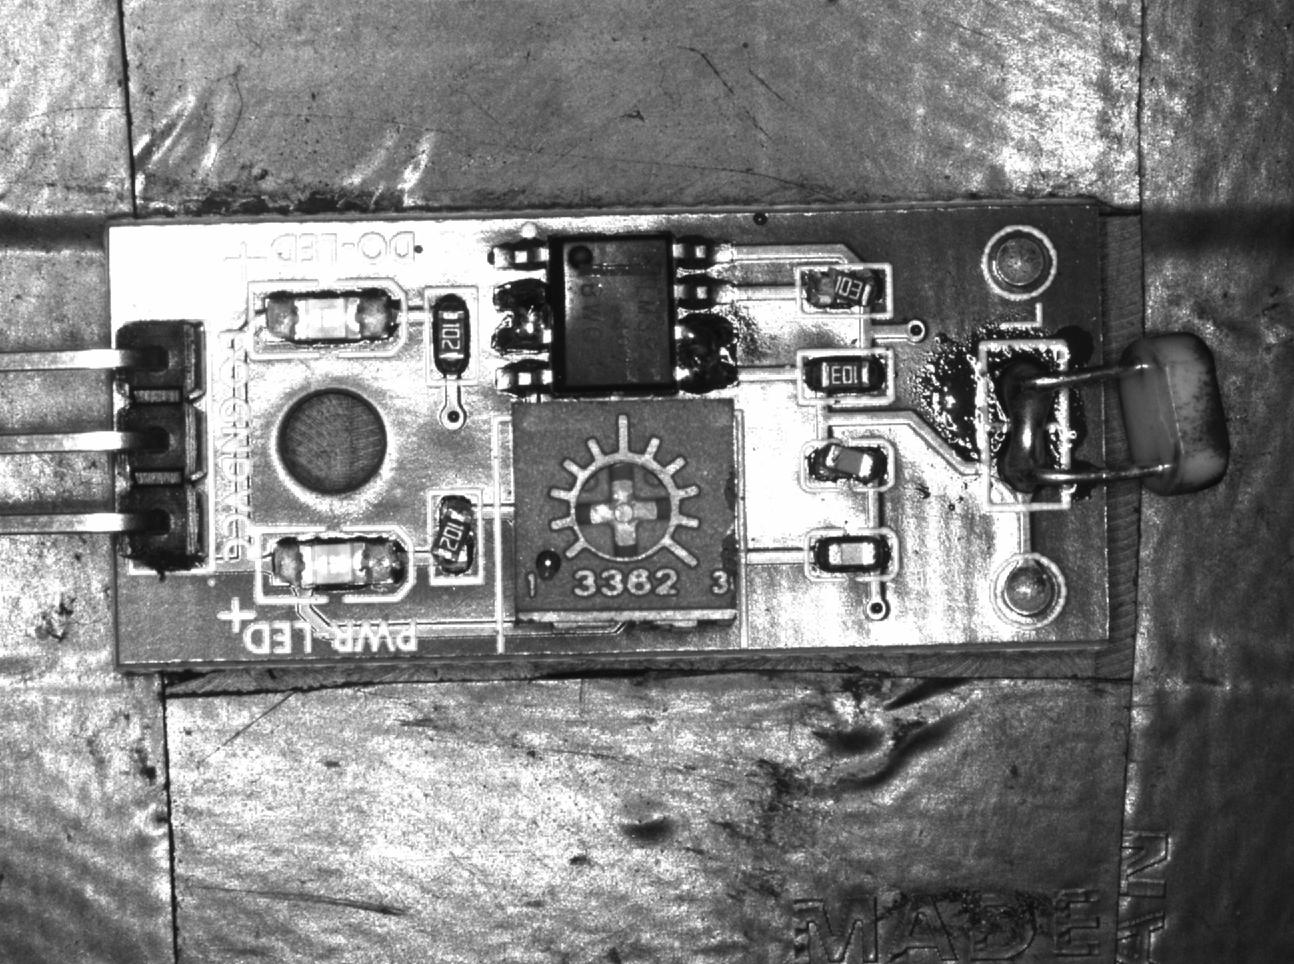bridge: (980, 343, 1065, 513), (488, 271, 550, 366), (680, 313, 735, 396)
lifted: (803, 438, 895, 495), (428, 488, 480, 584), (799, 349, 889, 404), (802, 267, 890, 307)
ok: (804, 528, 895, 579), (430, 288, 475, 384)
